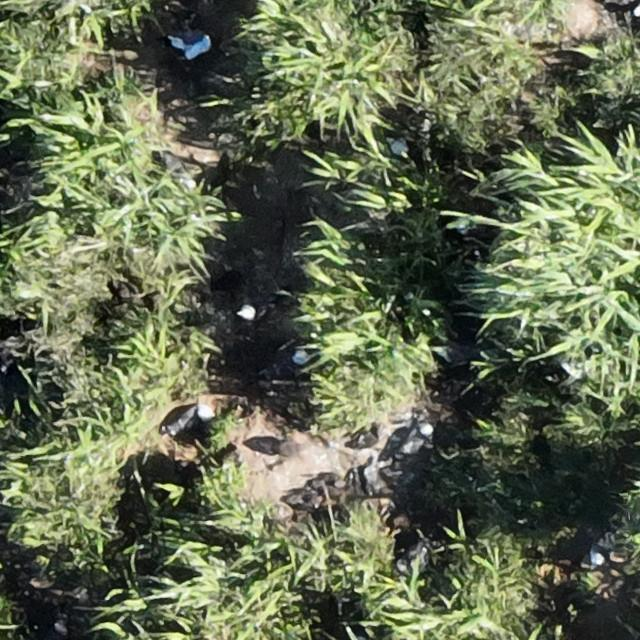umineko: (236, 288, 285, 320), (402, 420, 432, 457), (164, 152, 195, 186), (166, 406, 198, 431), (174, 34, 209, 56), (588, 542, 607, 566)
